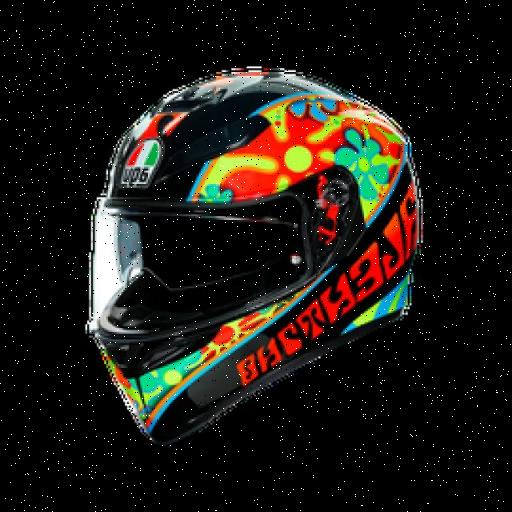Helmet: (70, 41, 444, 442)
